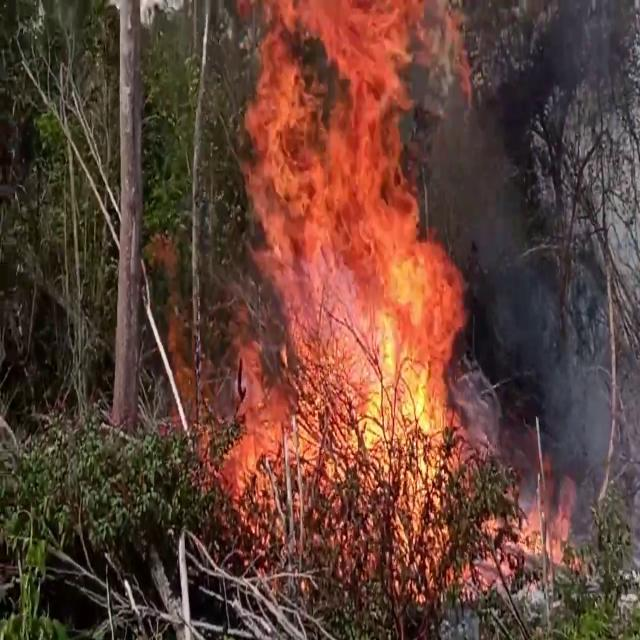Fire: (218, 0, 480, 545)
